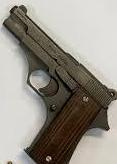gun: (1, 1, 117, 164)
